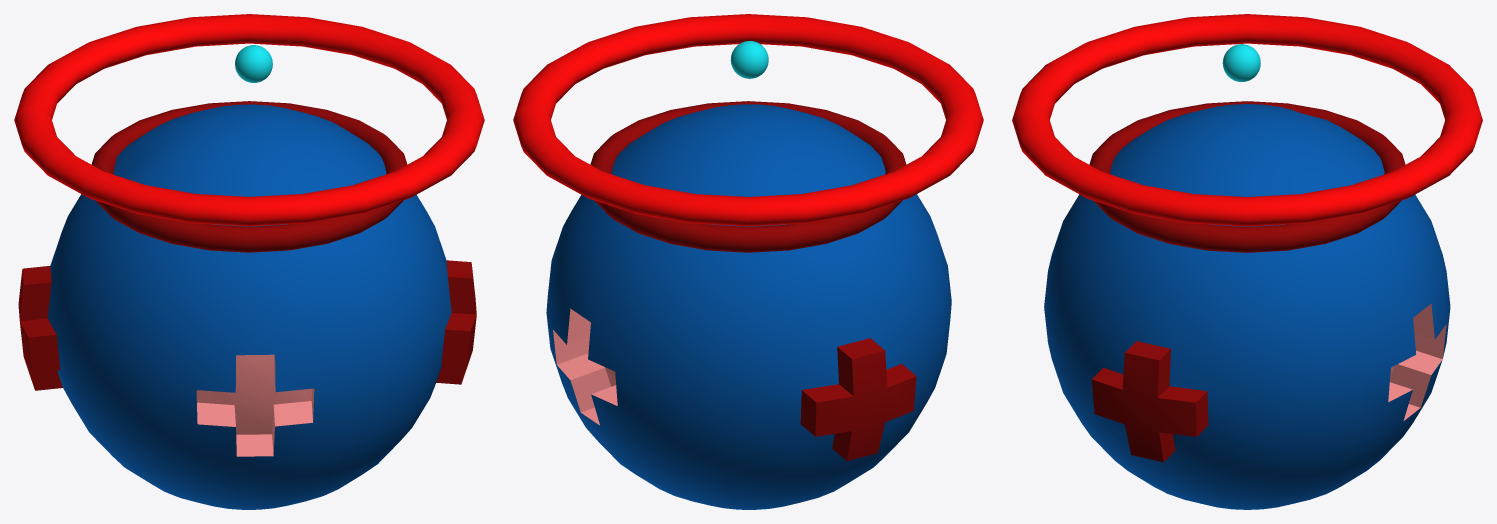
Rendered from 天使球.fbx.
3 views of the same model, side by side, from view 1: azimuth 30°, elevation 25°; view 2: azimuth 150°, elevation 25°; view 3: azimuth 270°, elevation 25° (orthographic).
Parts seen in each view (by area): view 1: Sphere002, Torus002, Torus001, Sphere003; view 2: Sphere002, Torus002, Torus001, Sphere003; view 3: Sphere002, Torus002, Torus001, Sphere003.
Boxes of the visible parts, <box> form: Sphere002: <box>18,104,476,509</box>; Torus002: <box>14,14,484,226</box>; Torus001: <box>91,101,407,252</box>; Sphere003: <box>235,45,272,82</box>; Sphere002: <box>546,104,951,509</box>; Torus002: <box>513,14,983,226</box>; Torus001: <box>590,101,906,252</box>; Sphere003: <box>730,41,768,78</box>; Sphere002: <box>1044,104,1450,509</box>; Torus002: <box>1012,14,1482,226</box>; Torus001: <box>1089,101,1405,252</box>; Sphere003: <box>1222,44,1260,81</box>.
Size of the model in its own units: 739 by 767 by 739.
Materials: 4 (4 with a texture image).
